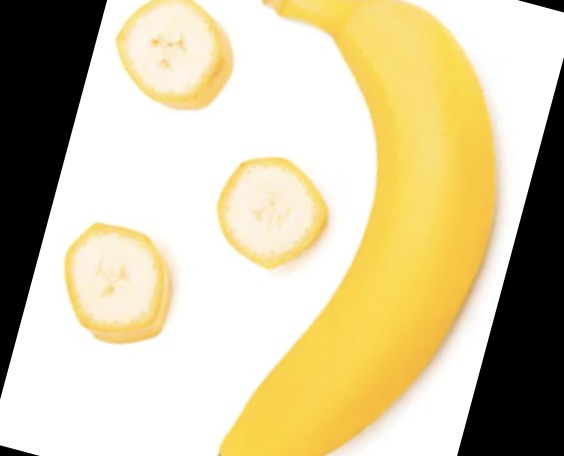fresh_banana: (217, 1, 498, 456)
